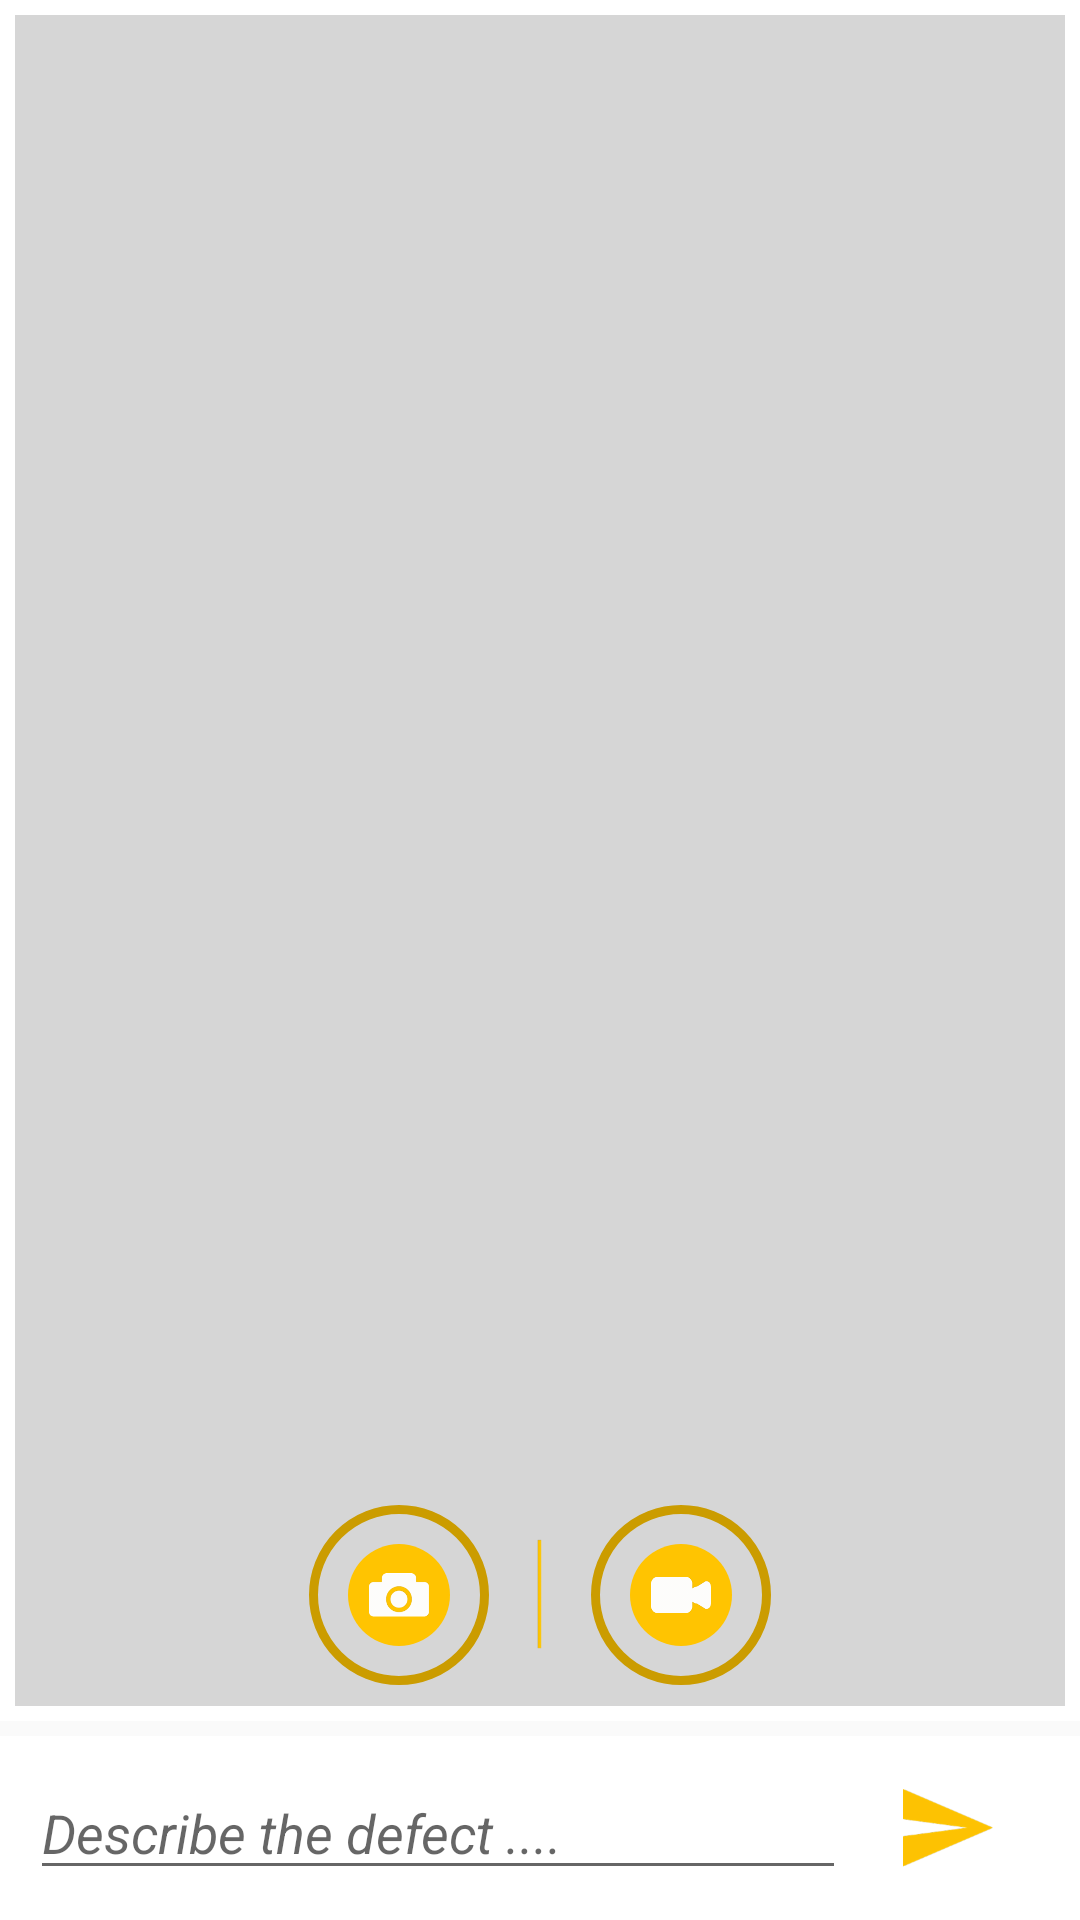

Locate icon controls on the screen. Image size 1080*1920, boxes as region(x1, y1, x2, y2).
camera: region(309, 1505, 489, 1685)
video: region(591, 1505, 771, 1685)
